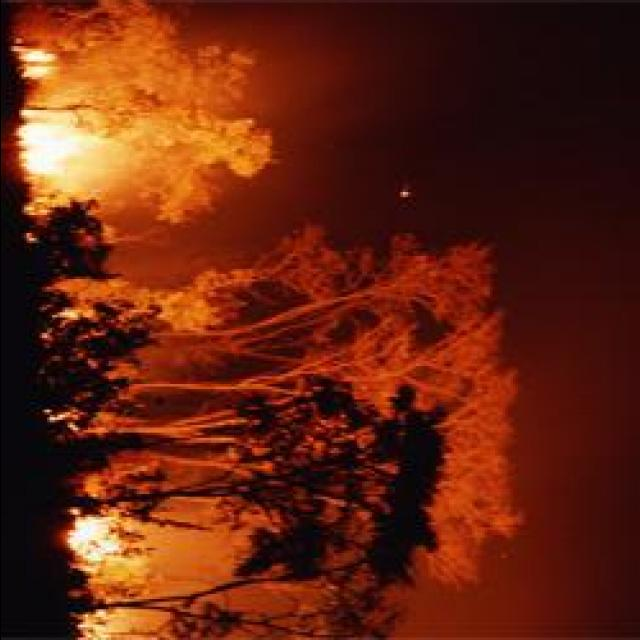fire: (22, 128, 66, 174), (68, 520, 110, 558), (74, 613, 124, 640)
smoke: (528, 262, 640, 498), (266, 0, 389, 108), (153, 526, 225, 580), (80, 154, 140, 194)
